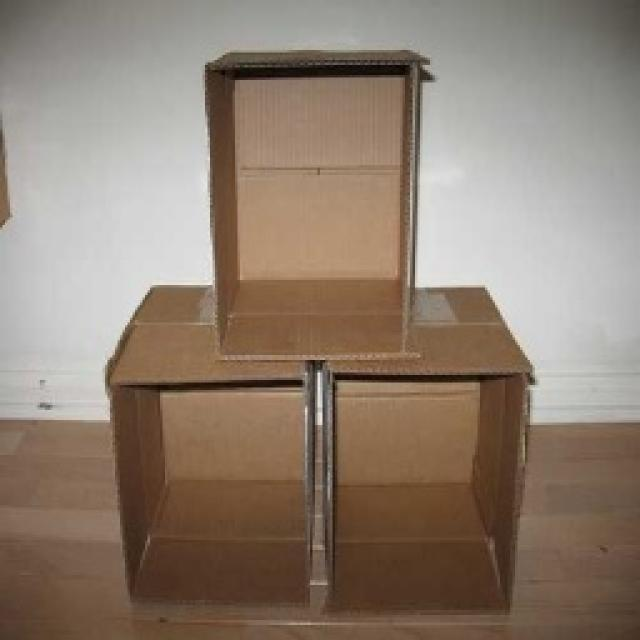box: (314, 256, 533, 618), (202, 49, 418, 368), (121, 286, 316, 612)
